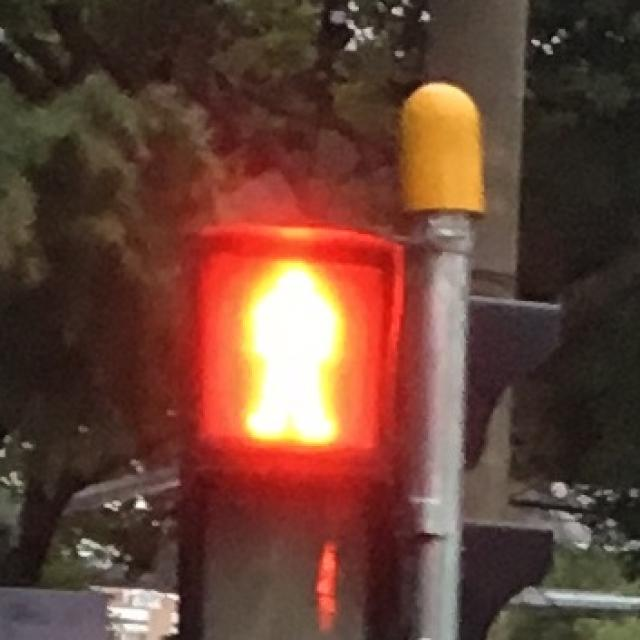red_light: (194, 236, 383, 458)
